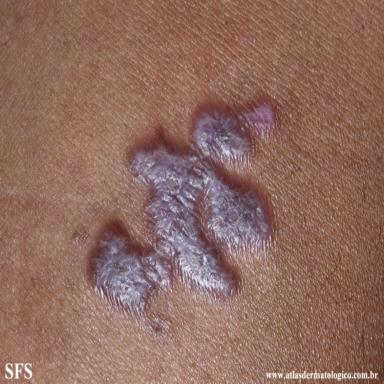lichen: (89, 95, 282, 335)
